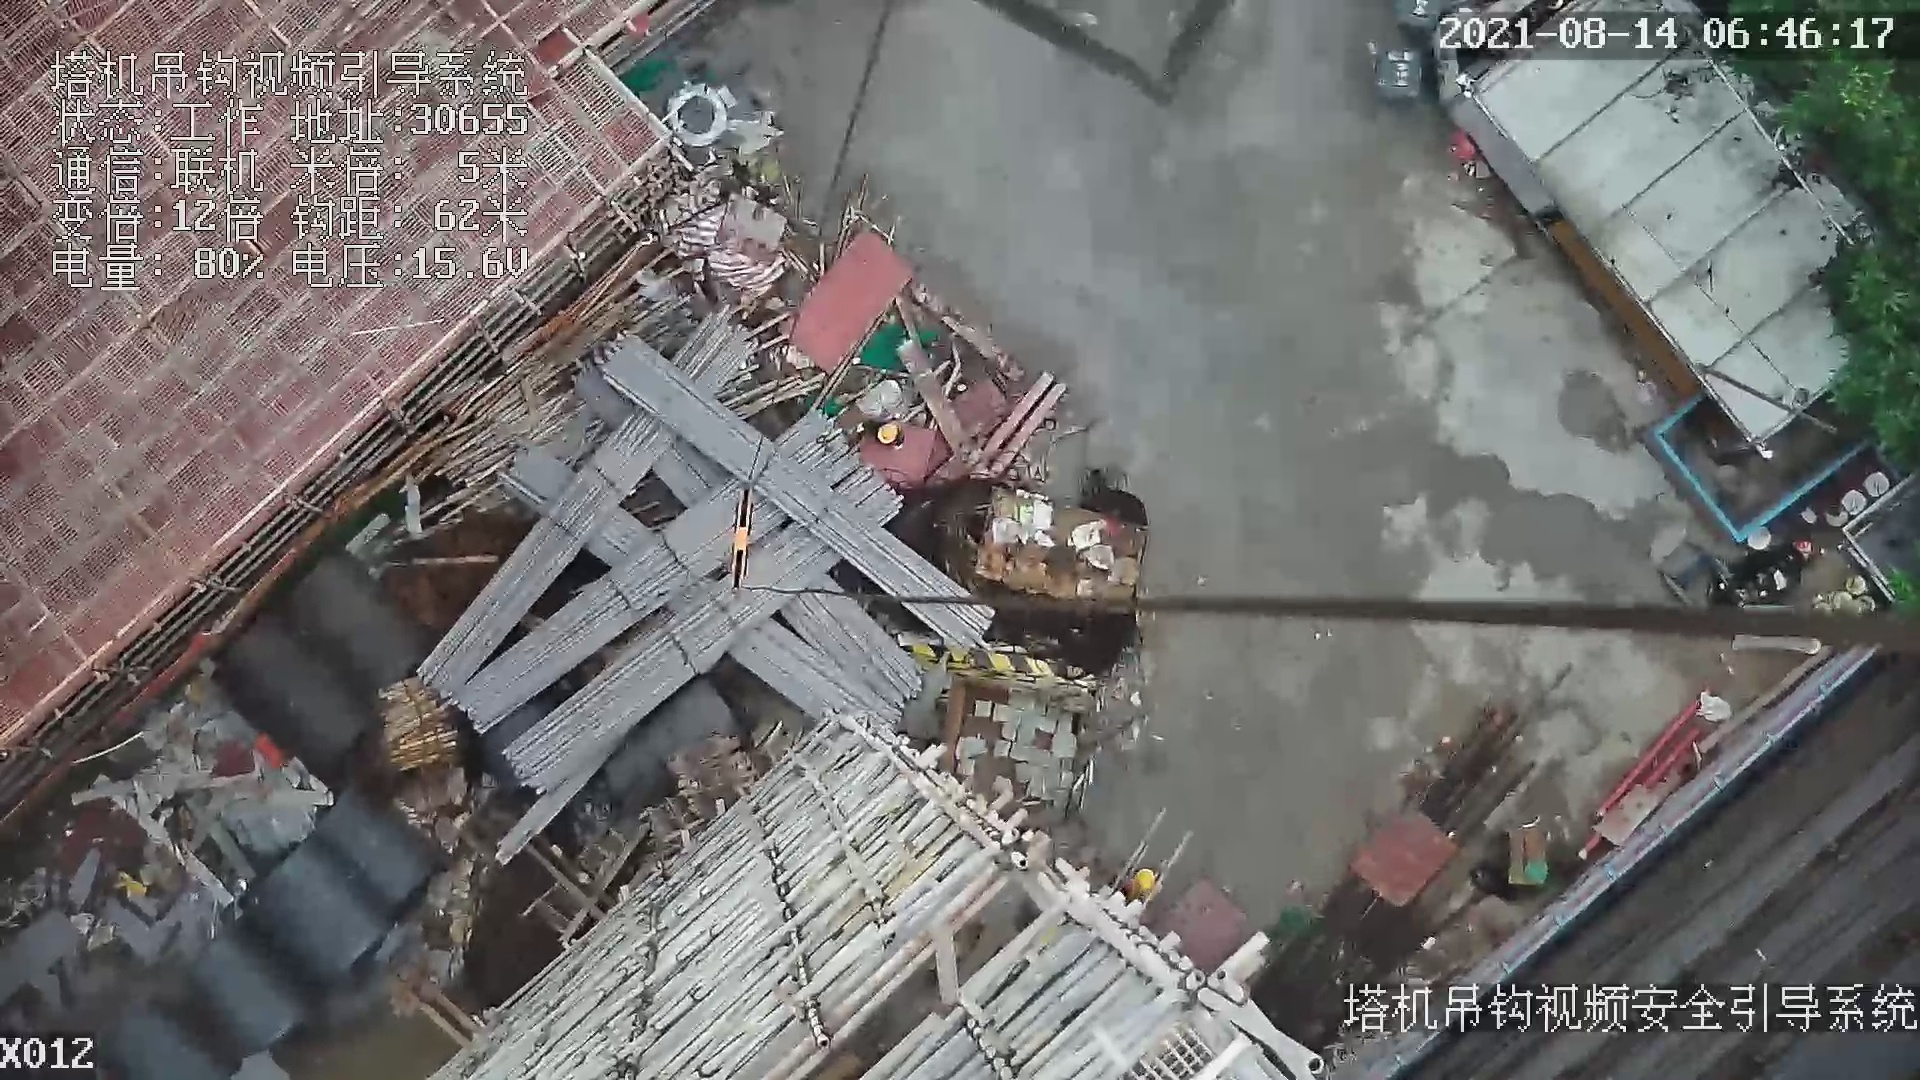helmet: (1137, 865, 1156, 886), (878, 423, 897, 443)
hook: (731, 486, 762, 597)
hopper: (1643, 385, 1885, 553)
person: (1113, 861, 1166, 906), (855, 417, 908, 453)
